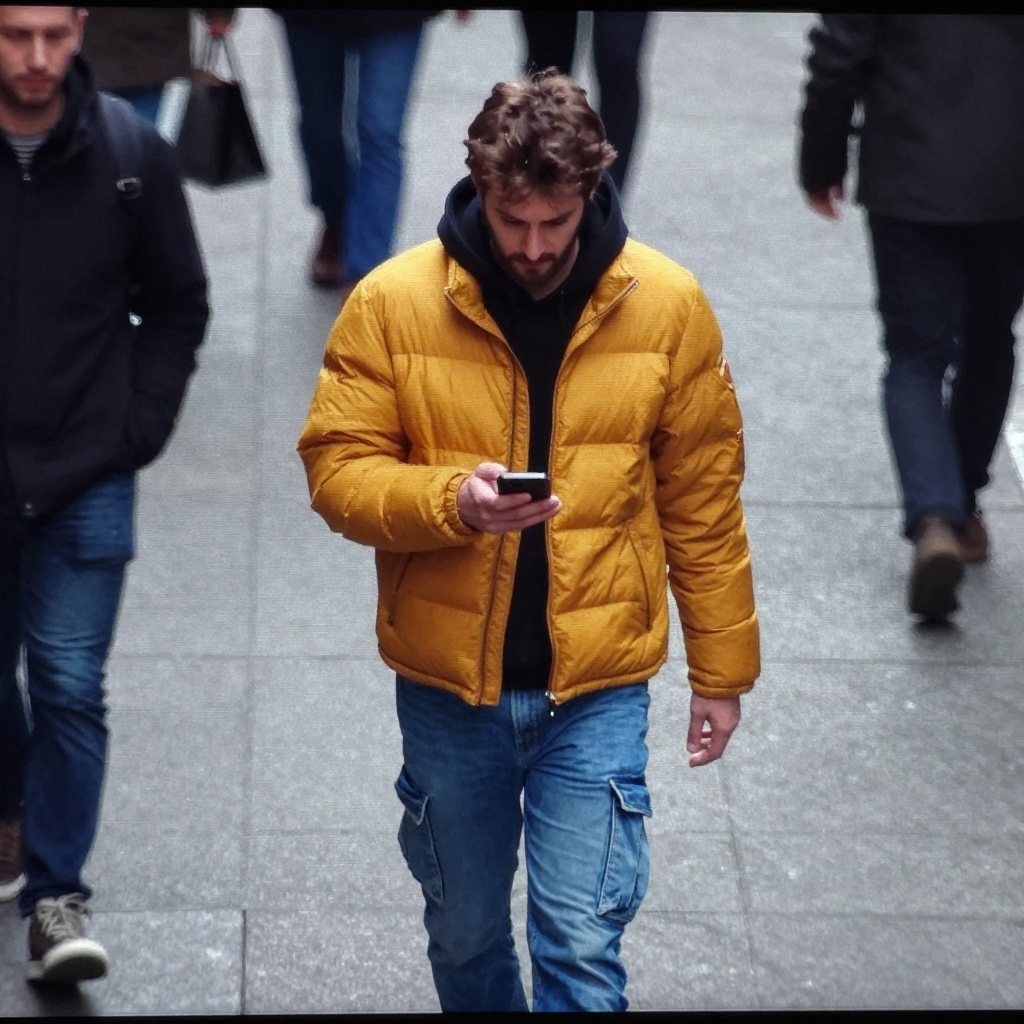Normal activity: (298, 67, 760, 1012), (0, 13, 211, 984), (797, 16, 1023, 629), (275, 5, 443, 290)
